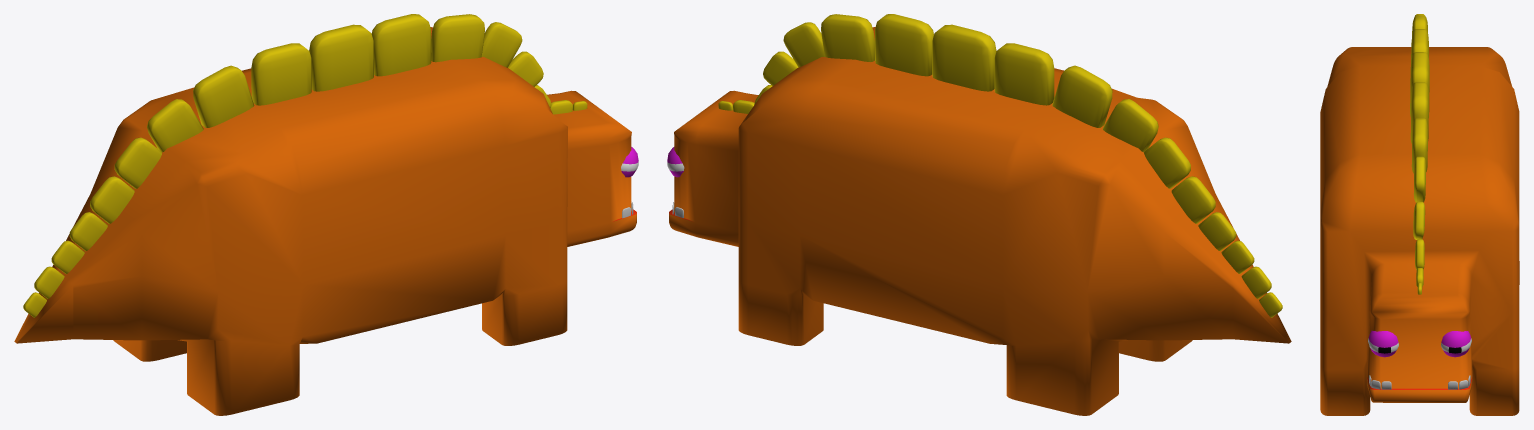
Rendered from maurice.fbx.
The picture shows the model from 3 angles, left to right: view 1: azimuth 30°, elevation 25°; view 2: azimuth 150°, elevation 25°; view 3: azimuth 270°, elevation 25°; orthographic projection. The views are drawn at different scales.
Parts seen in each view (by area): view 1: body, plates; view 2: body, plates; view 3: body, plates, eyes, teeth.
Boxes of the visible parts, x1,y1,x2,y2 form: body: (14,27,636,415); plates: (23,14,587,317); body: (669,27,1291,415); plates: (718,14,1282,317); body: (1320,47,1519,415); plates: (1410,14,1429,294); eyes: (1368,330,1471,357); teeth: (1369,375,1470,389).
Bounding box in the file's own units: 4.98 × 2.41 × 1.56.
